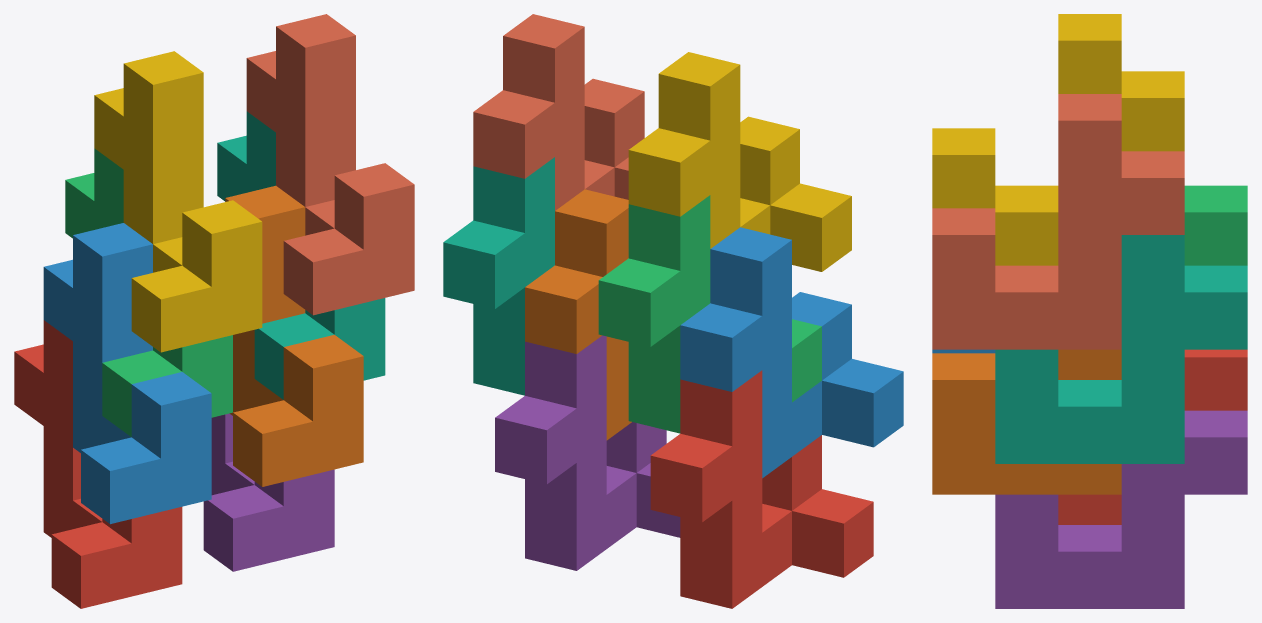
The model's file is tiling.obj.
3 renders of one model, left to right at view 1: azimuth 30°, elevation 25°; view 2: azimuth 150°, elevation 25°; view 3: azimuth 270°, elevation 25°, orthographic. The views are drawn at different scales.
Visible parts, largest first — view 1: copy_1_domain_4, copy_1_domain_8, copy_1_domain_2, copy_1_domain_6, copy_1_domain_1, copy_1_domain_5, copy_1_domain_7, copy_1_domain_3; view 2: copy_1_domain_1, copy_1_domain_2, copy_1_domain_4, copy_1_domain_5, copy_1_domain_8, copy_1_domain_3, copy_1_domain_7, copy_1_domain_6; view 3: copy_1_domain_8, copy_1_domain_7, copy_1_domain_5, copy_1_domain_4, copy_1_domain_6, copy_1_domain_1, copy_1_domain_3.
Boxes of the visible parts, <box> form: copy_1_domain_4: <box>94,51,262,352</box>; copy_1_domain_8: <box>246,14,414,315</box>; copy_1_domain_2: <box>43,223,211,524</box>; copy_1_domain_6: <box>225,185,363,486</box>; copy_1_domain_1: <box>14,320,182,608</box>; copy_1_domain_5: <box>203,413,334,571</box>; copy_1_domain_7: <box>217,111,385,399</box>; copy_1_domain_3: <box>65,148,232,436</box>; copy_1_domain_1: <box>650,370,873,608</box>; copy_1_domain_2: <box>680,227,903,478</box>; copy_1_domain_4: <box>628,52,851,271</box>; copy_1_domain_5: <box>495,335,680,570</box>; copy_1_domain_8: <box>473,14,644,210</box>; copy_1_domain_3: <box>598,195,821,433</box>; copy_1_domain_7: <box>443,157,554,395</box>; copy_1_domain_6: <box>525,189,631,440</box>; copy_1_domain_8: <box>932,94,1184,349</box>; copy_1_domain_7: <box>995,235,1247,463</box>; copy_1_domain_5: <box>995,410,1247,608</box>; copy_1_domain_4: <box>932,14,1184,265</box>; copy_1_domain_6: <box>932,349,1121,494</box>; copy_1_domain_1: <box>1058,349,1247,524</box>; copy_1_domain_3: <box>1184,185,1247,265</box>.
Size of the model in its own units: 6 by 9 by 5.
